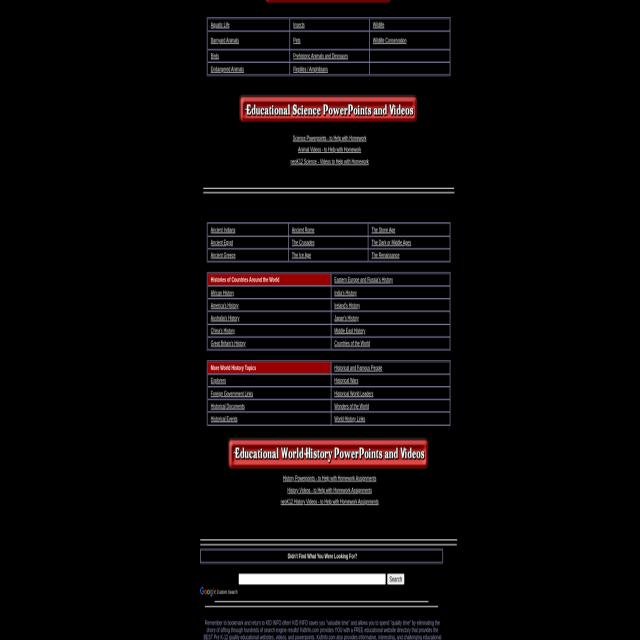button: (227, 437, 431, 472), (239, 94, 419, 126), (387, 573, 405, 585), (200, 586, 217, 598)
field: (238, 573, 386, 585)
